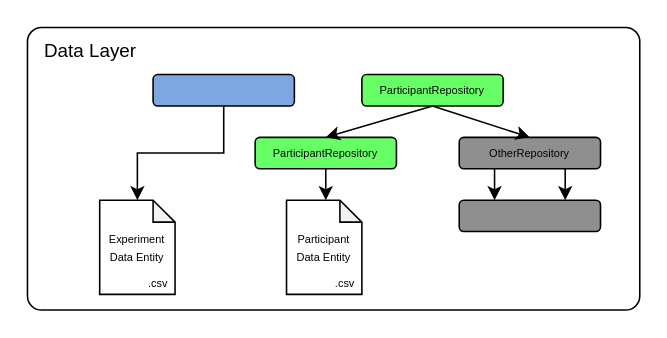
The diagram is 667 pixels wide and 338 high, and some of its shapes have lost their labels. The centre of each missing label's shape, as x and y in pixels:
ExperimentRepository: the point at 223,89
Other Data Source: the point at 529,215
